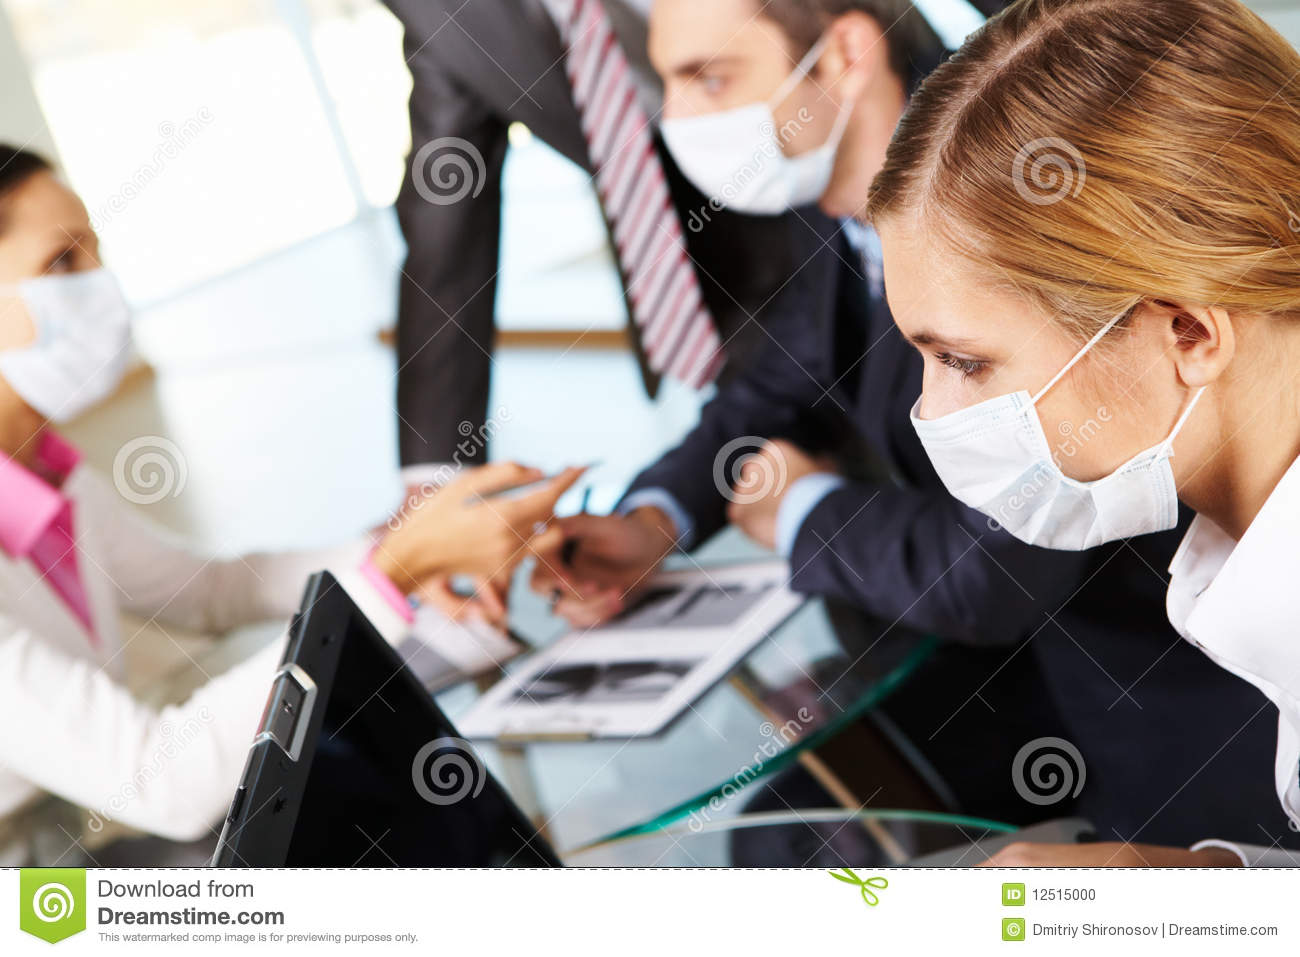mask: (914, 394, 1185, 551)
